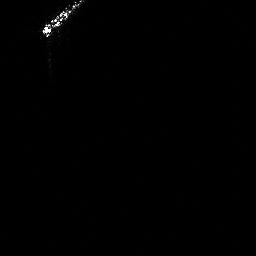ship: (37, 1, 86, 40)
